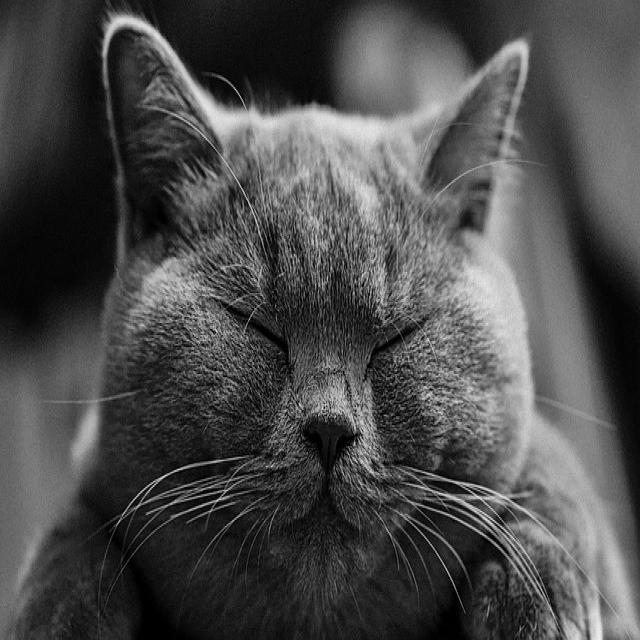animal: (10, 20, 622, 640)
